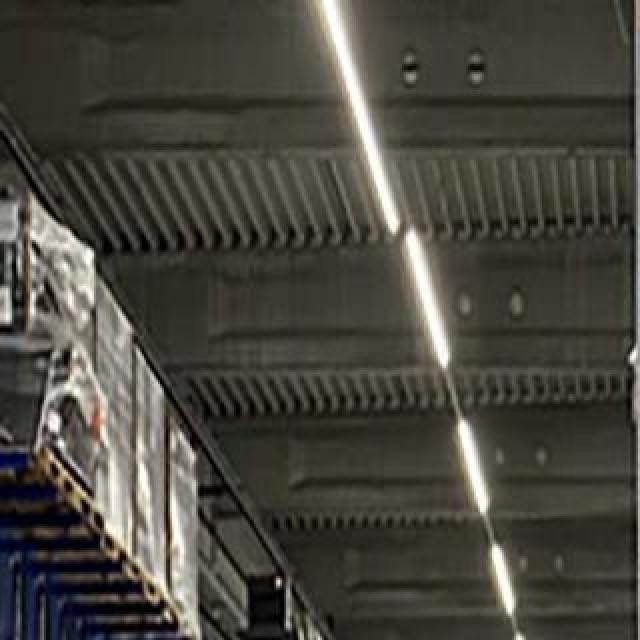fluorescent tube: (305, 4, 403, 236), (398, 211, 462, 369), (453, 398, 496, 520), (483, 538, 521, 622), (506, 626, 540, 640)
